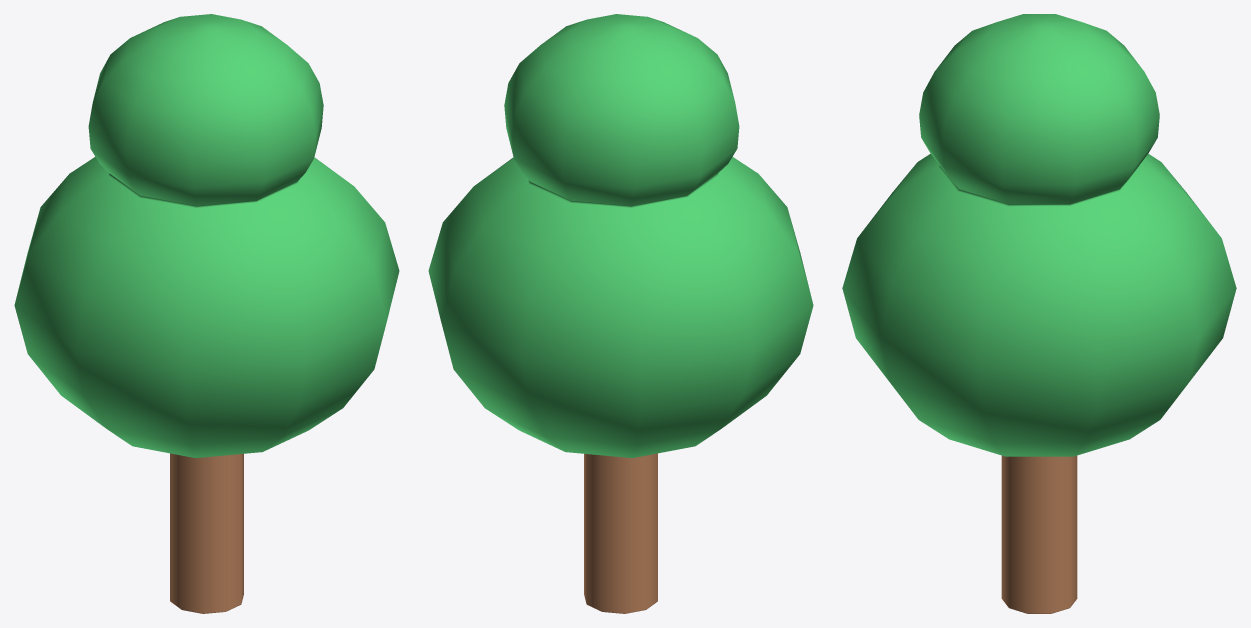
The model's file is Tree.fbx.
The picture shows the model from 3 angles, left to right: view 1: azimuth 30°, elevation 25°; view 2: azimuth 150°, elevation 25°; view 3: azimuth 270°, elevation 25°; orthographic projection.
Visible parts, largest first — view 1: Cylinder; view 2: Cylinder; view 3: Cylinder.
Part boxes in pixels (left/top/right/bottom): Cylinder: left=14, top=14, right=399, bottom=613; Cylinder: left=428, top=14, right=813, bottom=613; Cylinder: left=842, top=14, right=1236, bottom=613.
Bounding box in the file's own units: 425 × 717 × 447.
2 materials, 2 textured.
